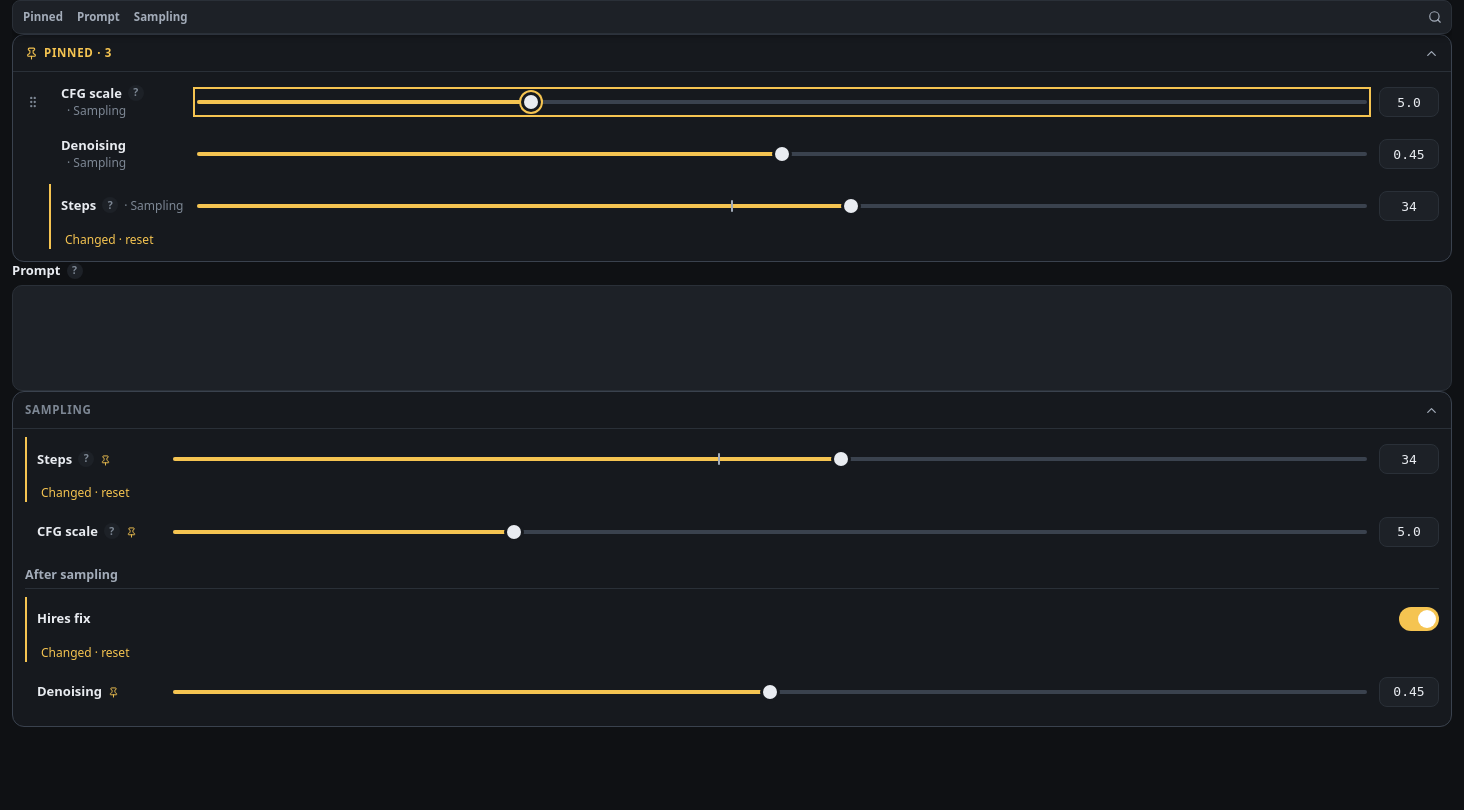
Test: pinned fields › keeps one value in two places, its changed mark in both, and lists the pinned values when folded
The width and height of the screenshot is (1464, 810).
Expected: the element that starts with "Pinned · 3" is shown, x1=12 y1=34 x2=1452 y2=262
Press Arrowright
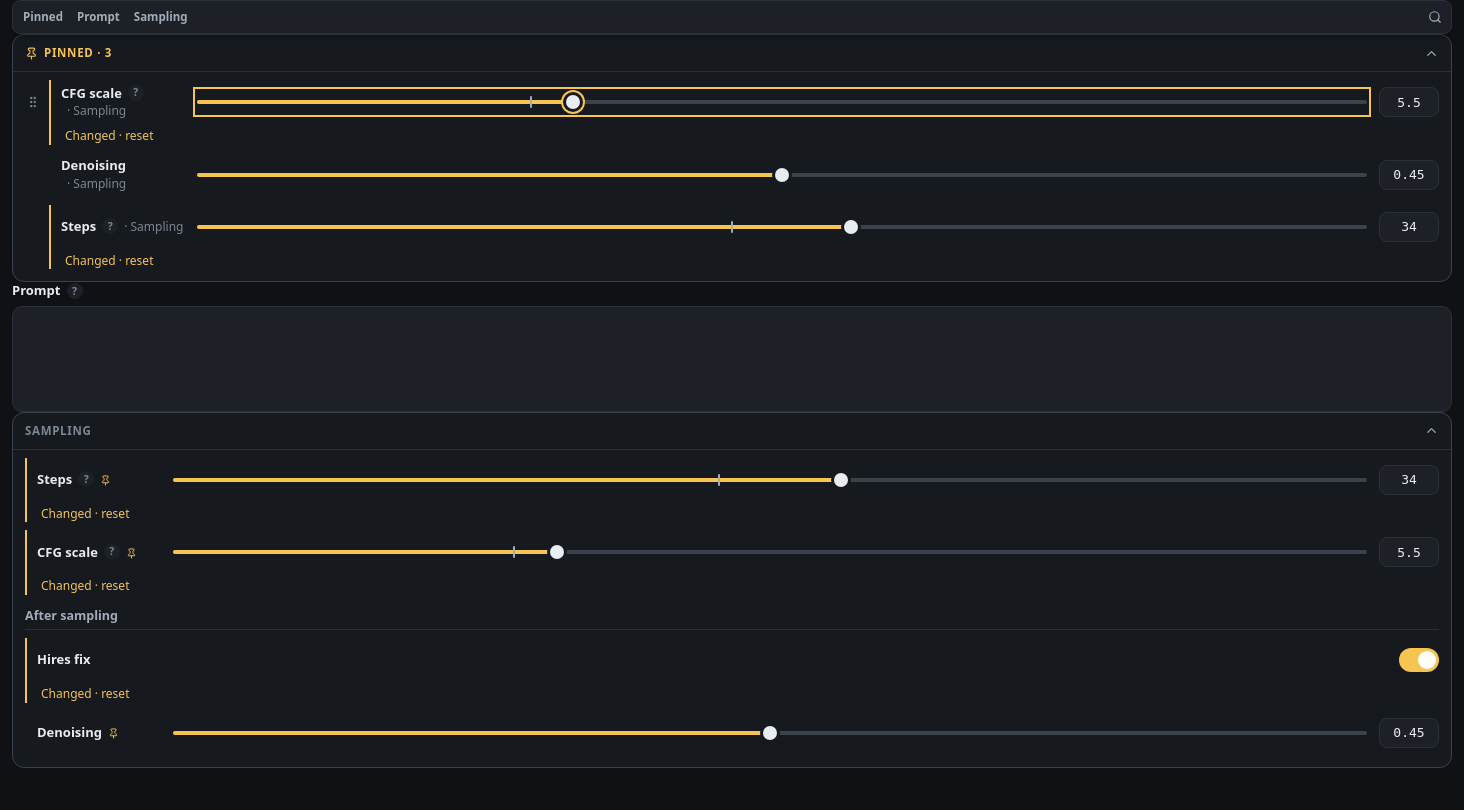
Expected: the number of buttons "Changed · reset" is 5, x1=61 y1=128 x2=158 y2=144; x1=61 y1=253 x2=158 y2=269; x1=37 y1=506 x2=134 y2=522; x1=37 y1=578 x2=134 y2=594; x1=37 y1=686 x2=134 y2=702
Note: folded: its line says what is pinned, with the values
Click the button with aria-label "Pinned · 3: fold" at {"x": 69, "y": 53}, box x1=25 y1=45 x2=112 y2=61
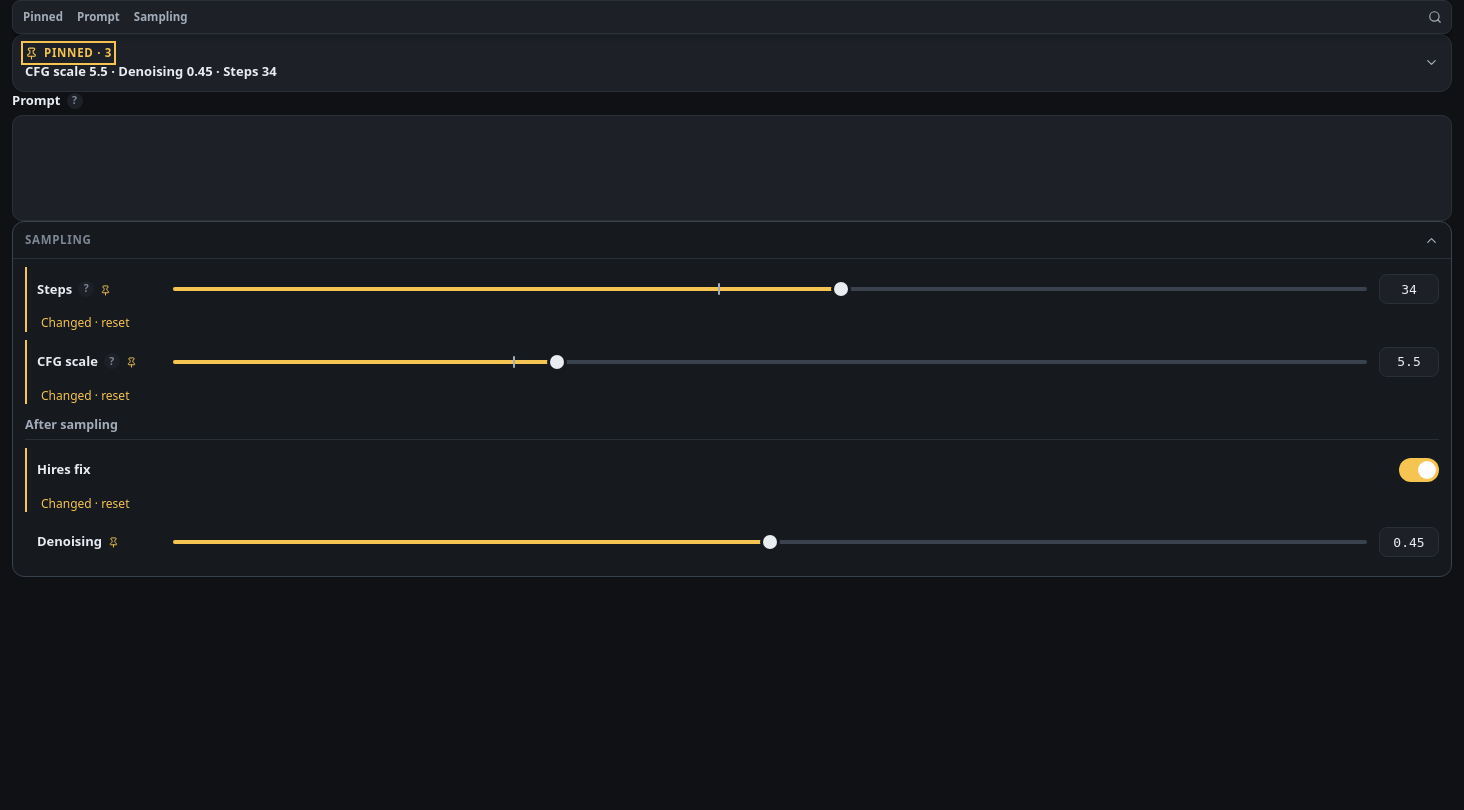
Expected: the text "CFG scale 5.5 · Denoising 0.45 · Steps 34" is shown, x1=25 y1=62 x2=277 y2=80
